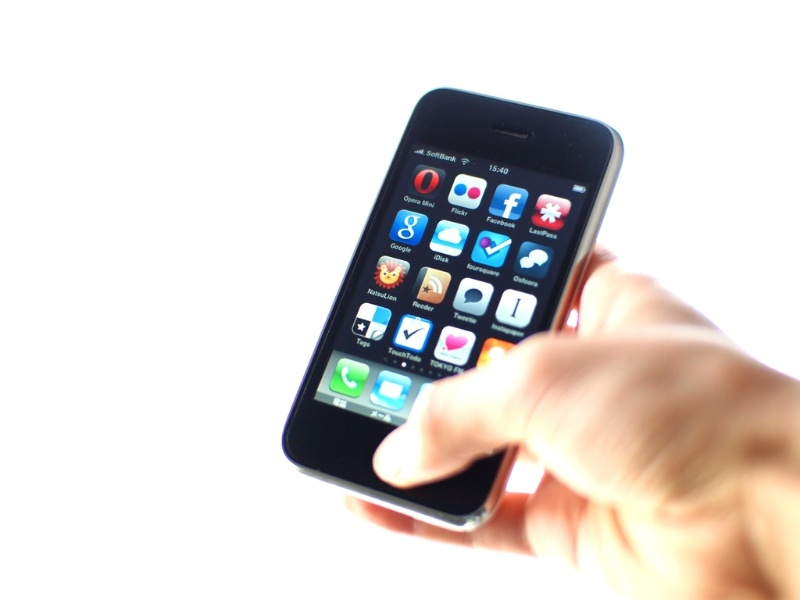cellphone: (290, 70, 623, 543)
